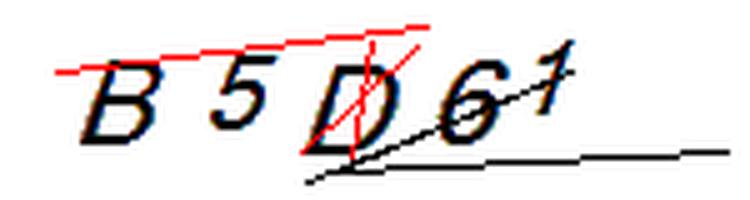1: (523, 33, 584, 124)
5: (199, 42, 283, 137)
6: (431, 51, 522, 150)
B: (73, 48, 168, 153)
D: (296, 59, 404, 161)
